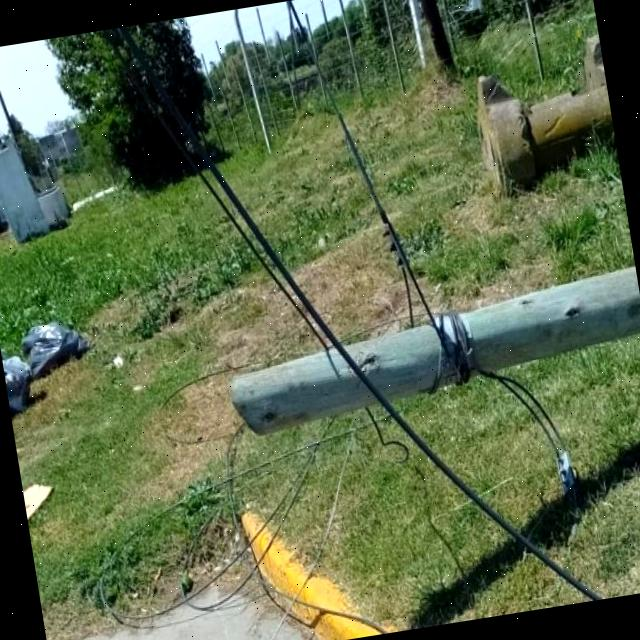Broken Pole: (215, 264, 640, 446)
